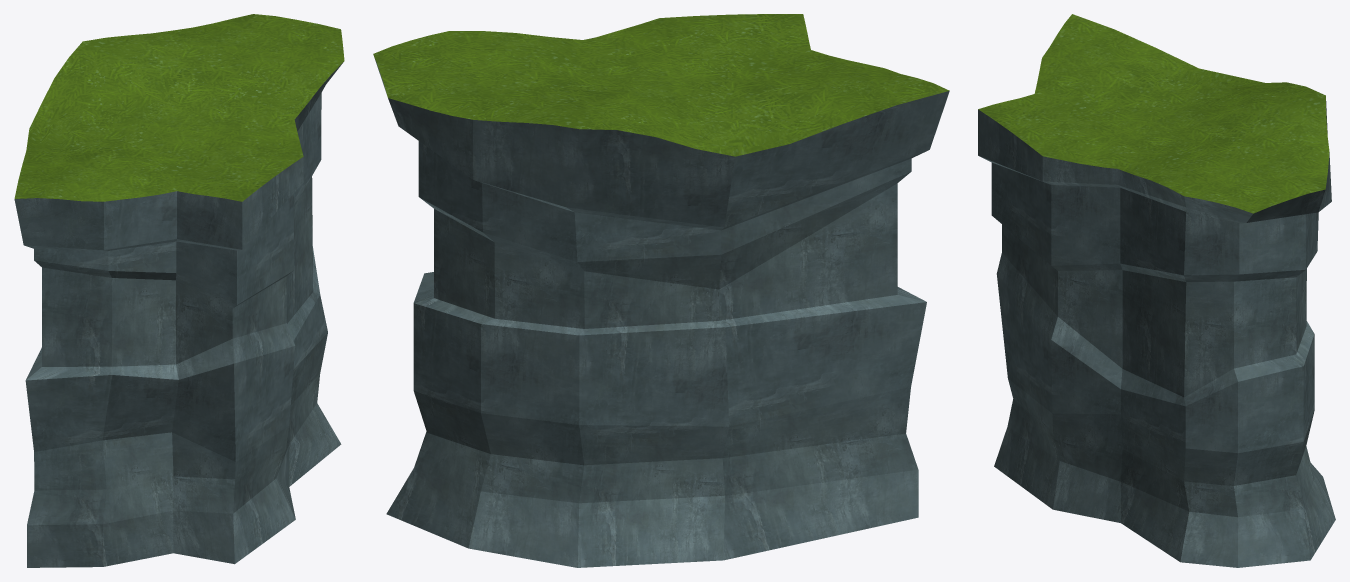
File: IslandTower_4.fbx
The picture shows the model from 3 angles, left to right: view 1: azimuth 30°, elevation 25°; view 2: azimuth 150°, elevation 25°; view 3: azimuth 270°, elevation 25°; orthographic projection. The views are drawn at different scales.
Visible parts, largest first — view 1: pPlane4; view 2: pPlane4; view 3: pPlane4.
Boxes of the visible parts, x1,y1,x2,y2 form: pPlane4: (14,14,344,567); pPlane4: (373,14,949,567); pPlane4: (978,14,1335,567).
Size of the model in its own units: 4.93 by 4.4 by 3.75.
